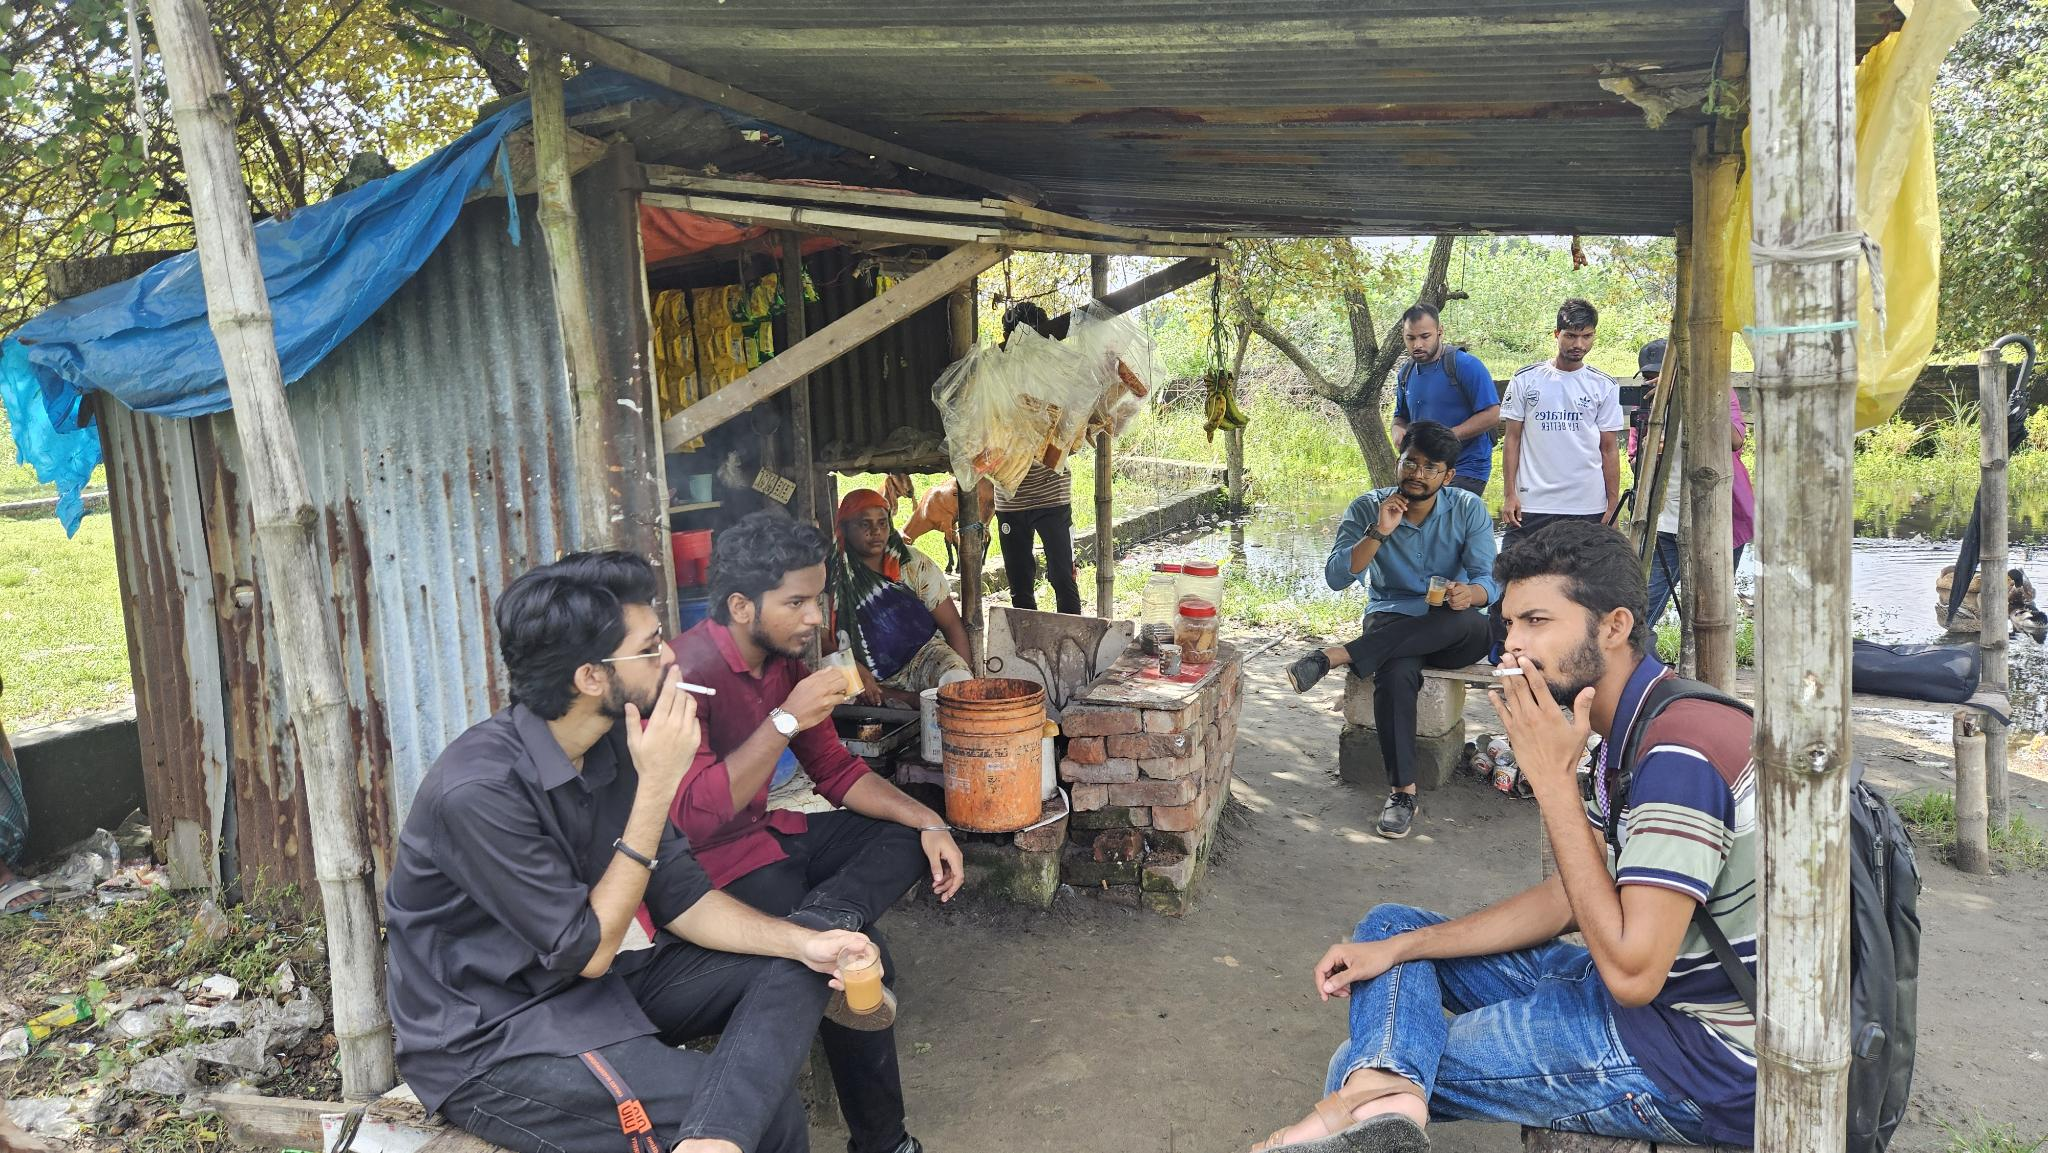cigarette: (674, 681, 717, 697), (1491, 665, 1526, 679)
nonSmoker: (668, 517, 965, 929), (1286, 419, 1502, 839), (823, 488, 969, 706), (1499, 297, 1623, 551), (1395, 307, 1499, 494)
smoker: (1252, 519, 1754, 1153), (383, 551, 869, 1153)
